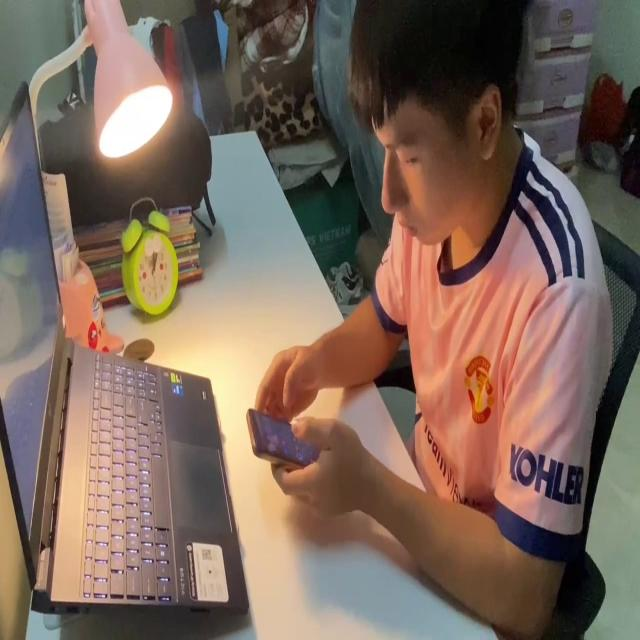laptop: (1, 77, 253, 621)
phone: (244, 399, 325, 468)
student: (256, 0, 608, 640)
